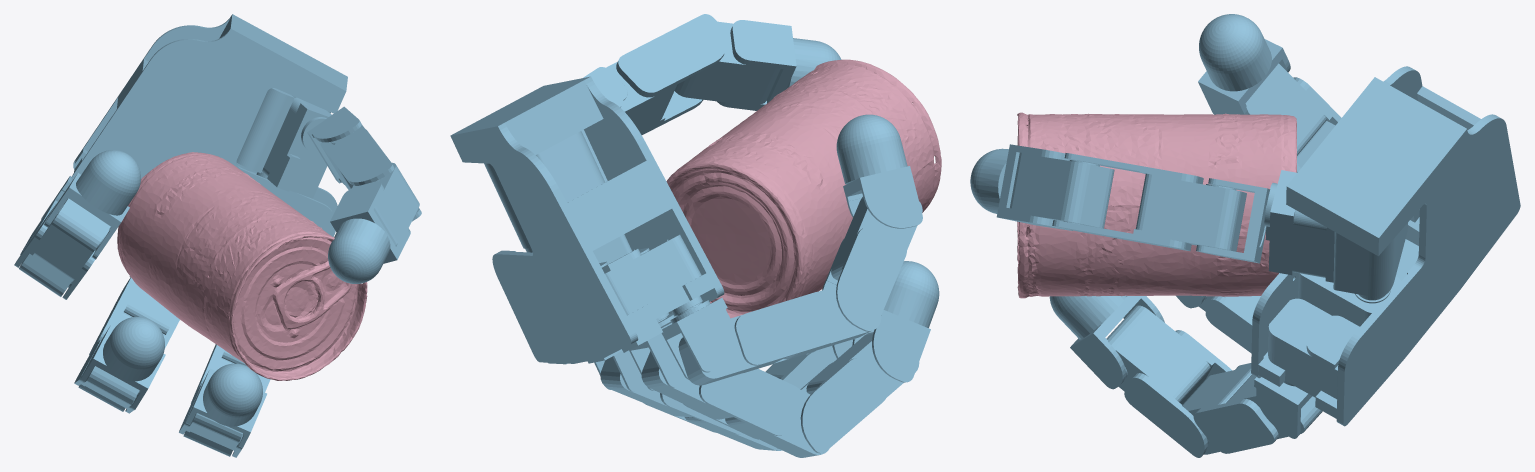
The picture shows the model from 3 angles, left to right: view 1: azimuth 30°, elevation 25°; view 2: azimuth 150°, elevation 25°; view 3: azimuth 270°, elevation 25°; orthographic projection. The views are drawn at different scales.
Parts seen in each view (by area): view 1: world, tomato_soup_can.stl; view 2: world, tomato_soup_can.stl; view 3: world, tomato_soup_can.stl.
Boxes of the visible parts, bbox=[...] form: world: bbox=[14, 14, 421, 457]; tomato_soup_can.stl: bbox=[117, 152, 367, 380]; world: bbox=[450, 14, 939, 457]; tomato_soup_can.stl: bbox=[666, 59, 941, 318]; world: bbox=[970, 14, 1520, 457]; tomato_soup_can.stl: bbox=[1017, 112, 1296, 298].
Bounding box in the file's own units: 0.1756 × 0.1687 × 0.2.
